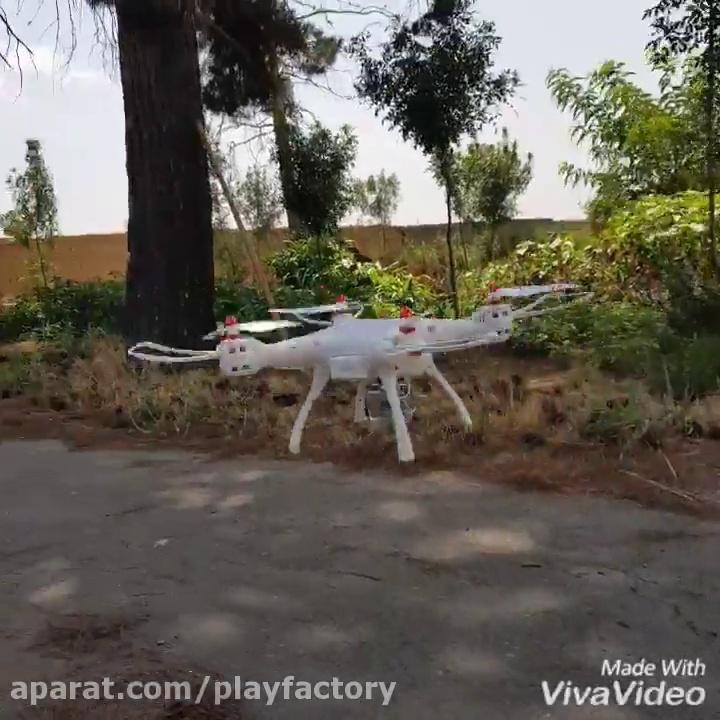drone: (122, 273, 593, 462)
